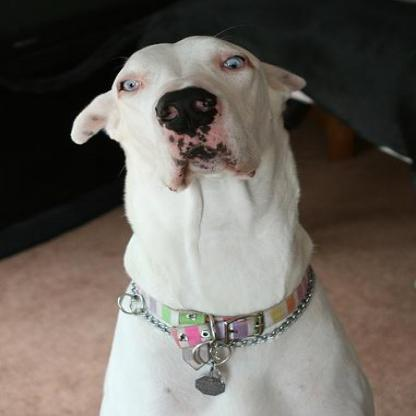Great_Dane: (68, 34, 370, 414)
